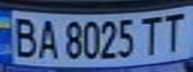0: (81, 17, 103, 61)
2: (100, 17, 121, 60)
5: (115, 16, 142, 60)
8: (60, 17, 84, 61)
A: (33, 16, 60, 60)
B: (6, 13, 39, 60)
T: (160, 9, 190, 53), (136, 12, 166, 56)
